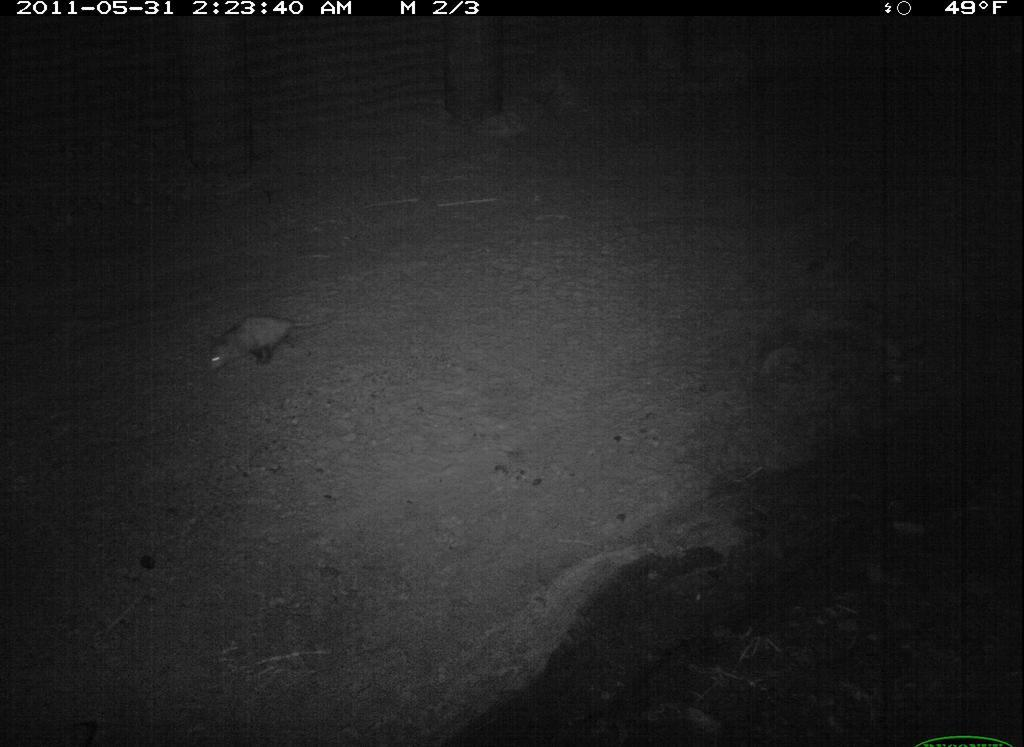opossum: (195, 303, 354, 381)
